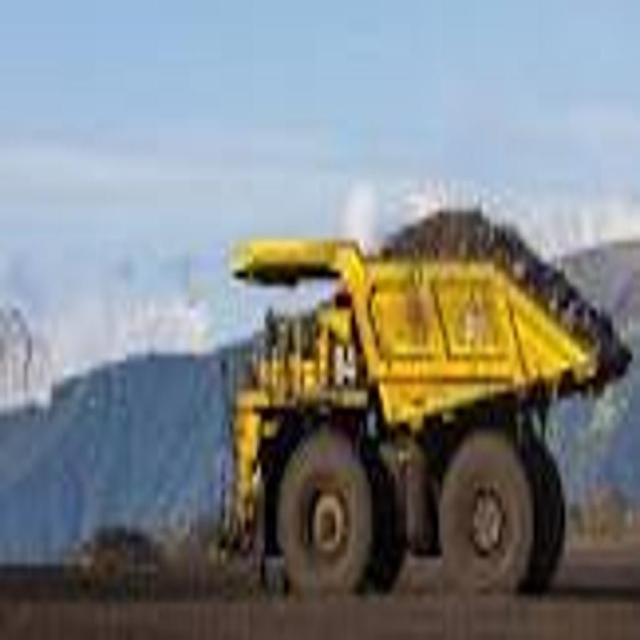dump_truck: (230, 198, 632, 600)
